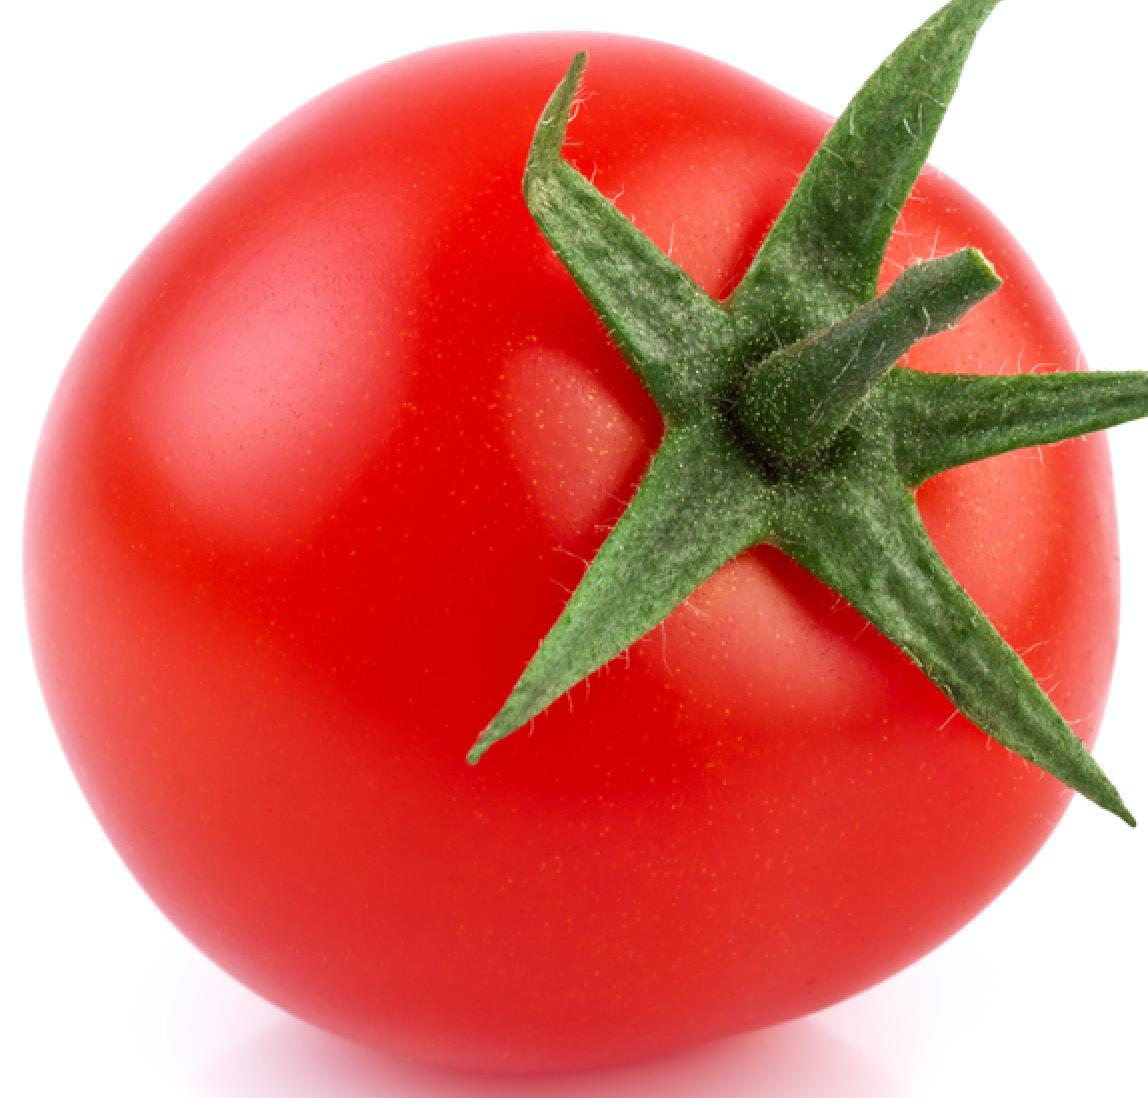tomato: (34, 43, 1109, 1077)
